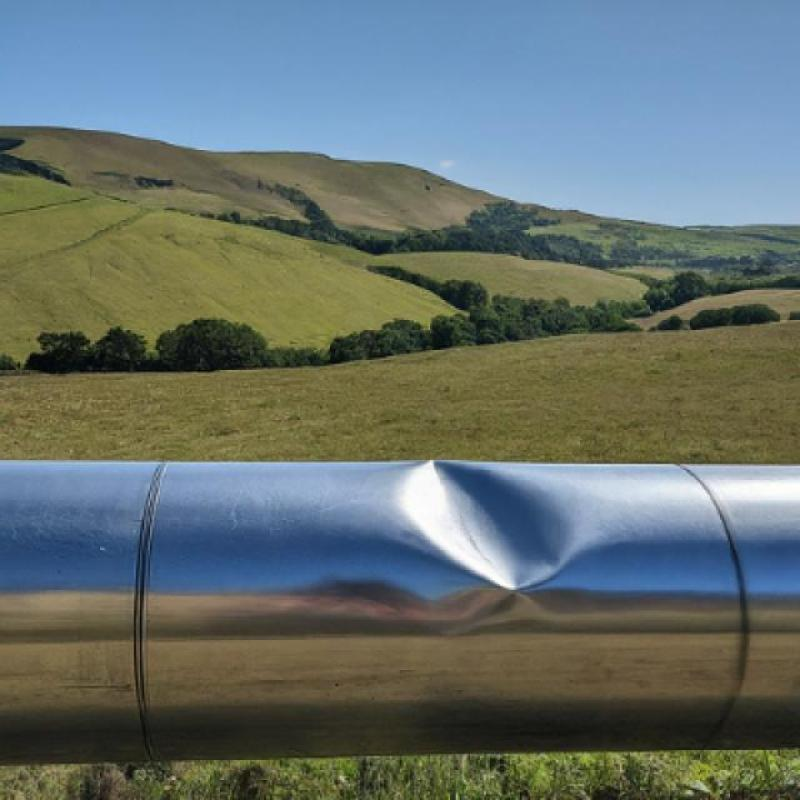Dent: (405, 440, 573, 605)
